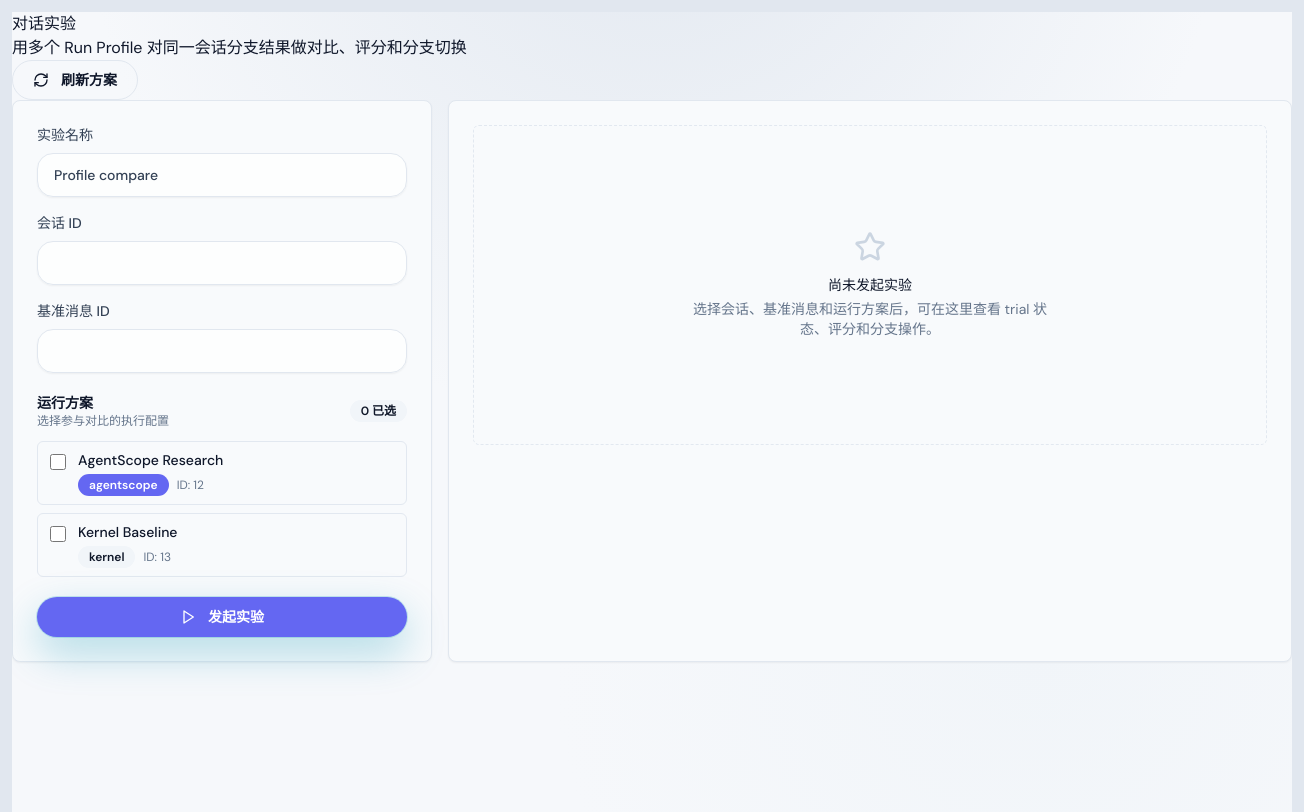
Test case: RunExperimentPage › exports a markdown report for the current experiment
Expected: the text "AgentScope Research" is shown, [78,451,223,469]
Type "101" into the field labelled "会话 ID" at (222, 263), box [37,241,407,285]
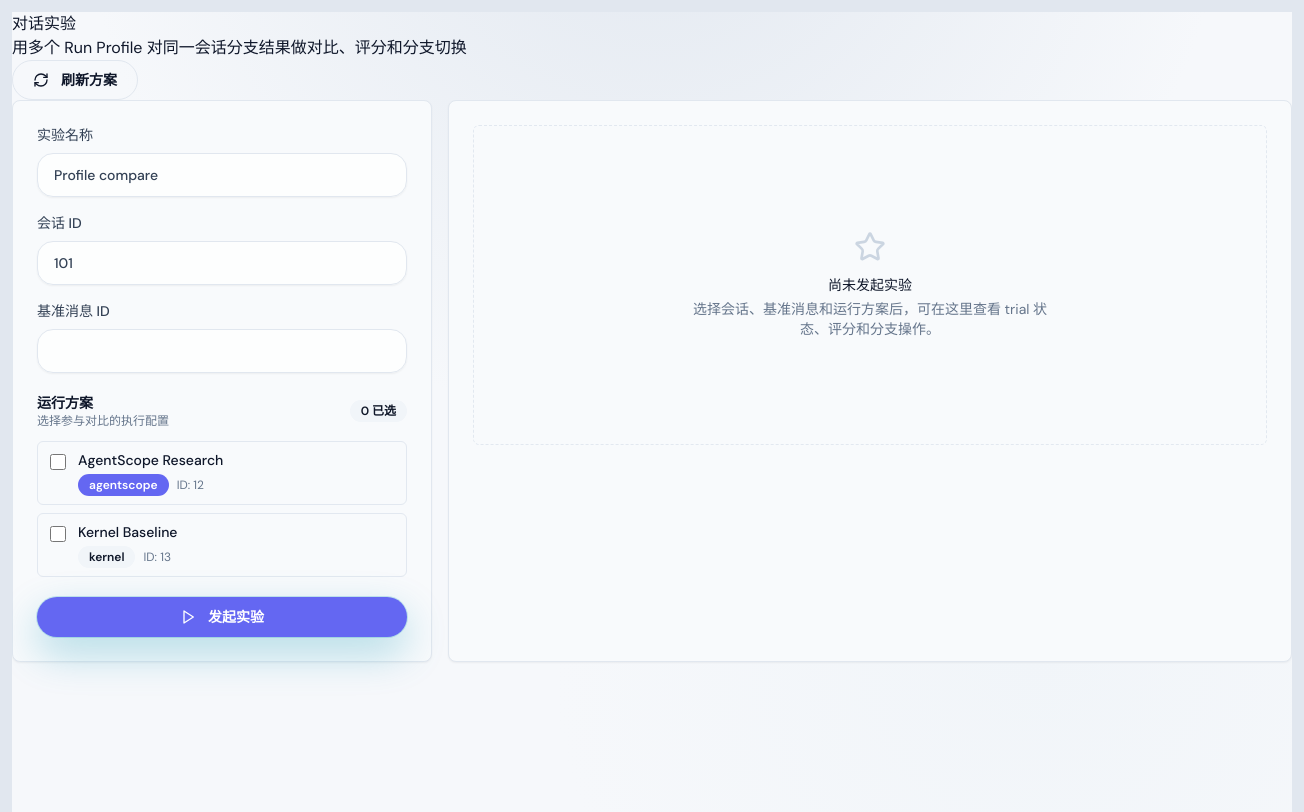
Click the checkbox labelled "AgentScope Research" at (58, 462), box [50,454,66,470]
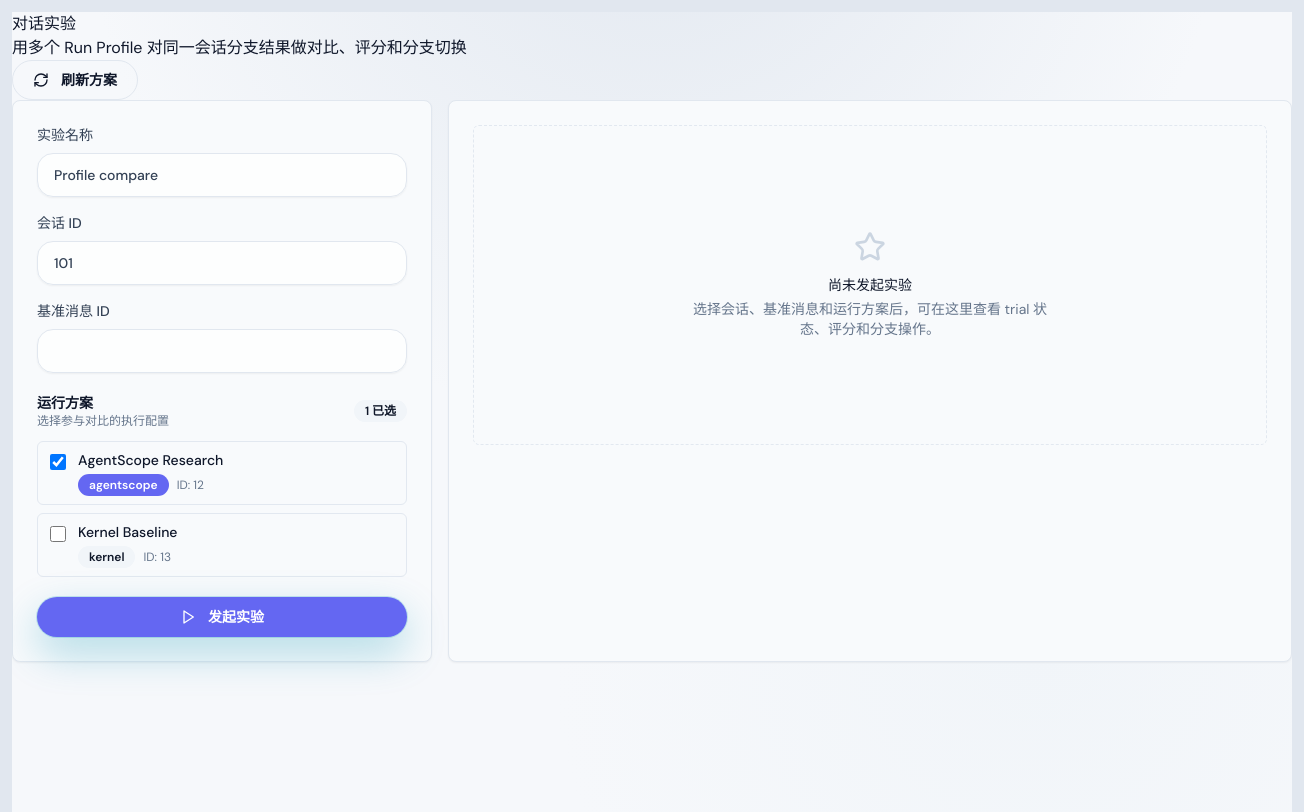
Click the button "发起实验" at (222, 617), box [37,597,407,637]
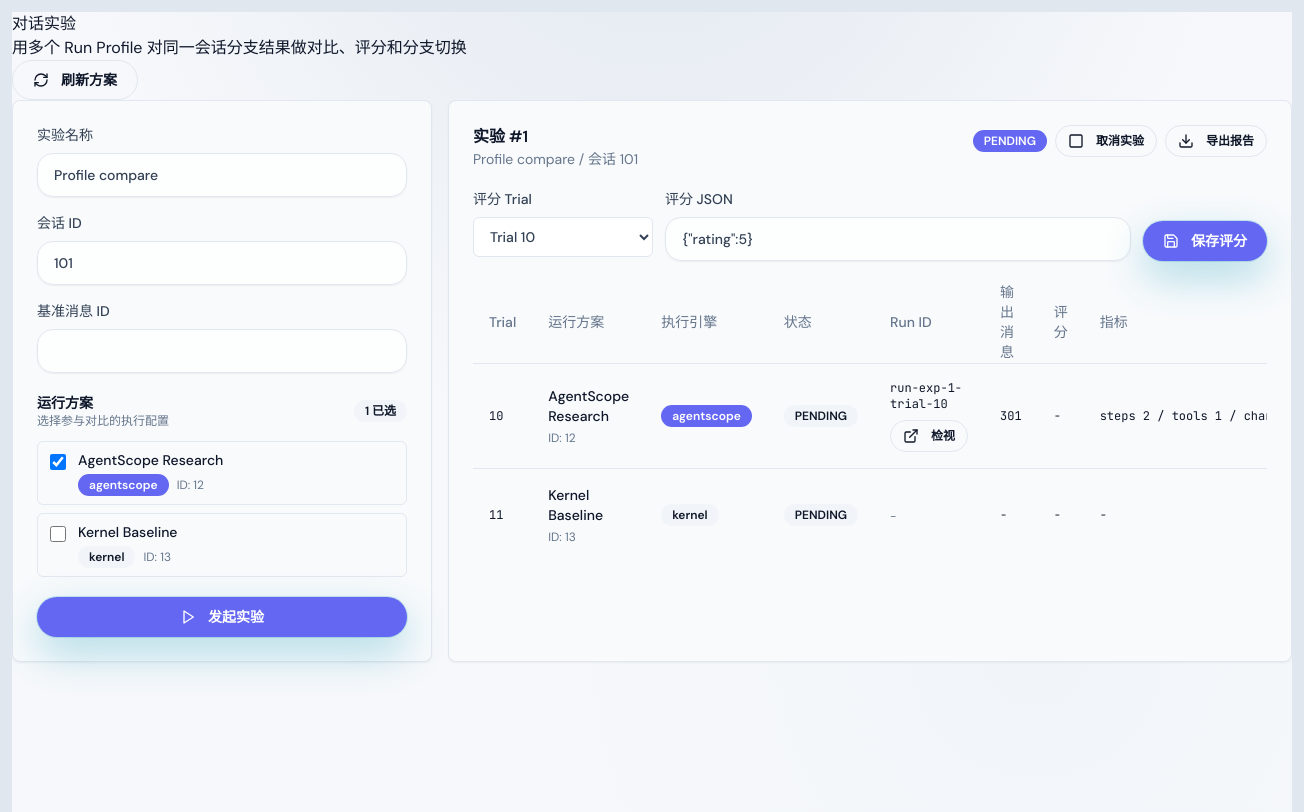
Result: the heading "实验 #1" is shown at [473,126,528,147]
Click the button "导出报告" at (1216, 141), box [1165,125,1267,157]
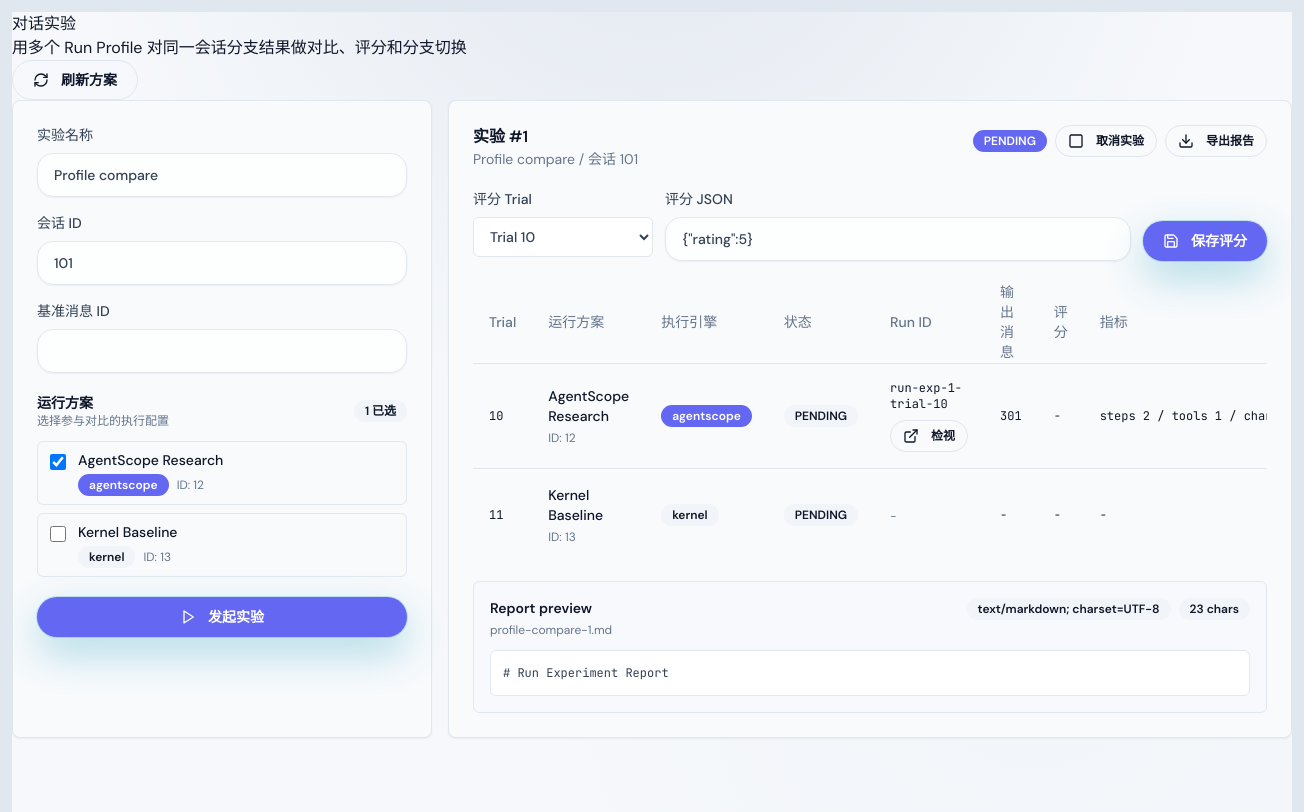
Result: the heading "Report preview" is shown at [490,599,592,617]
Result: the text "profile-compare-1.md" is shown at [490,622,612,638]
Result: the text "text/markdown; charset=UTF-8" is shown at [967,598,1171,620]
